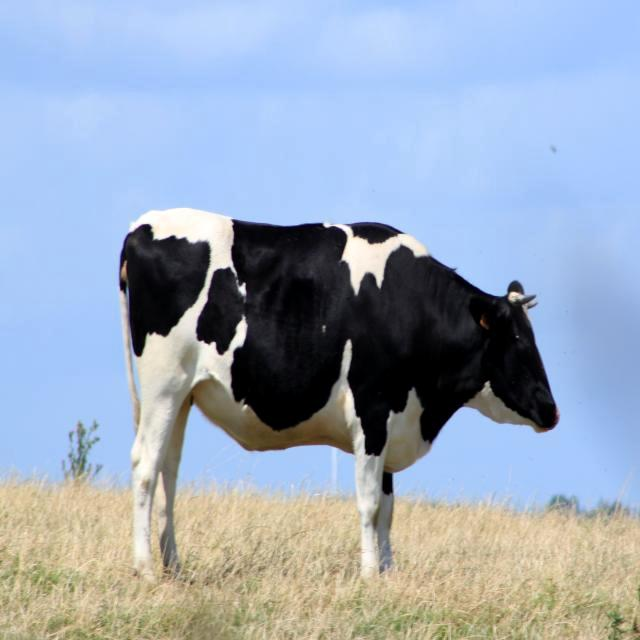COW: (120, 210, 559, 577)
